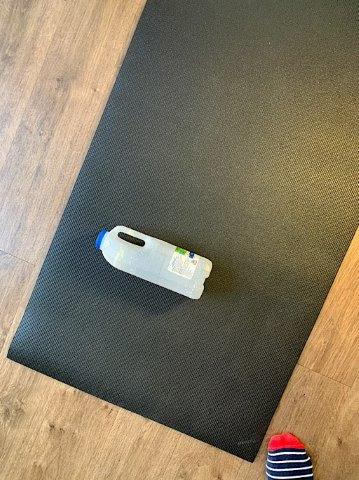botolplastik: (96, 226, 212, 298)
